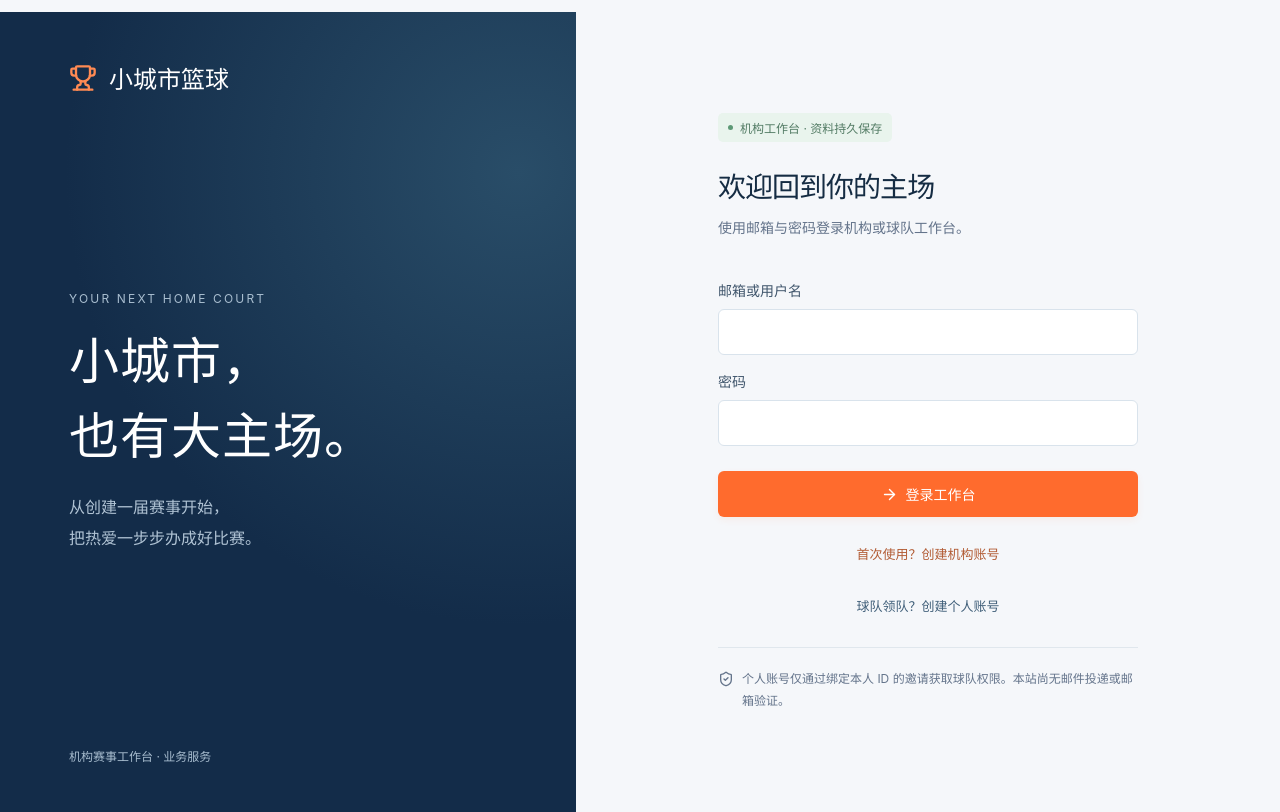
Test case: API模式登录与机构边界 › 登录失败显示错误且不渲染Mock，成功后显示真实机构与资料
The image size is (1280, 812).
Expected: the heading "欢迎回到你的主场" is shown, [718, 170, 934, 204]
Step 1. Type "owner@example.test" into the field labelled "邮箱或用户名" → (928, 332), box [718, 309, 1138, 355]
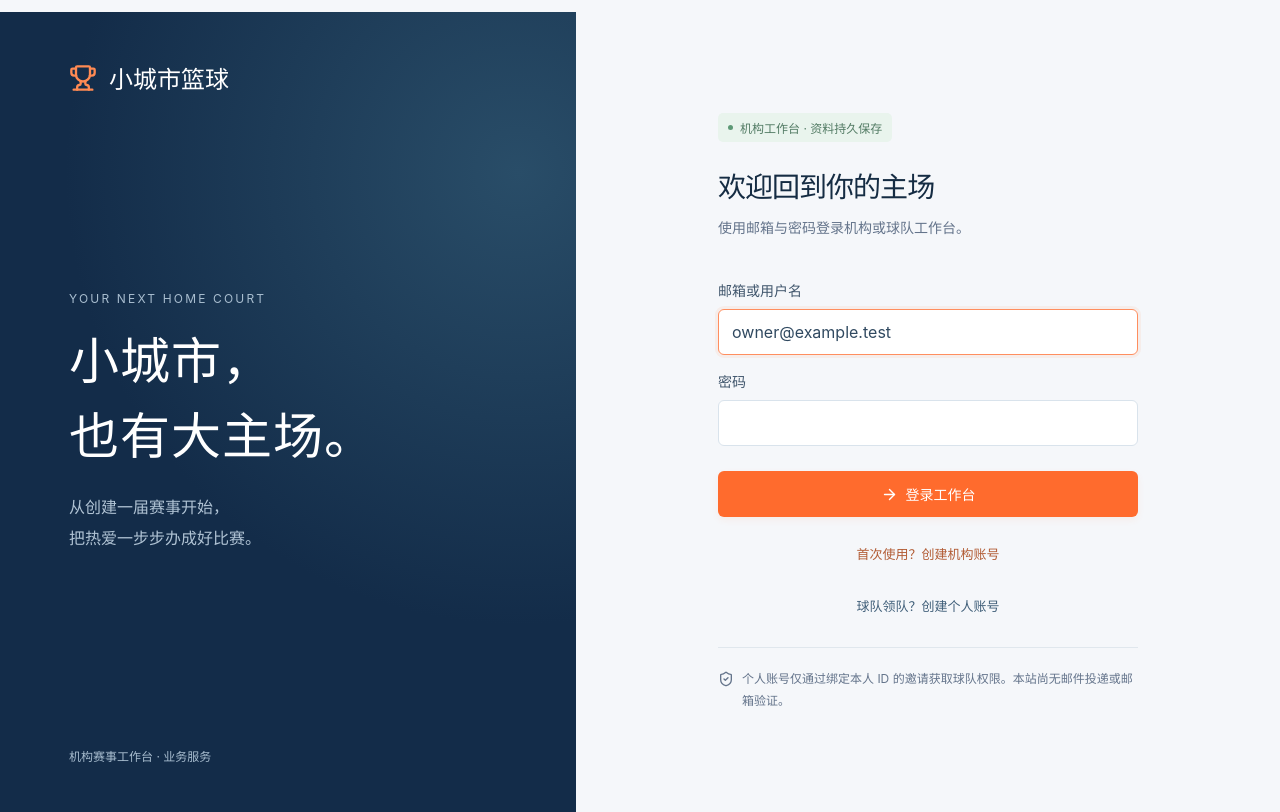
Step 2. Type "wrong-password" into the password field labelled "密码" → (928, 423), box [718, 400, 1138, 446]
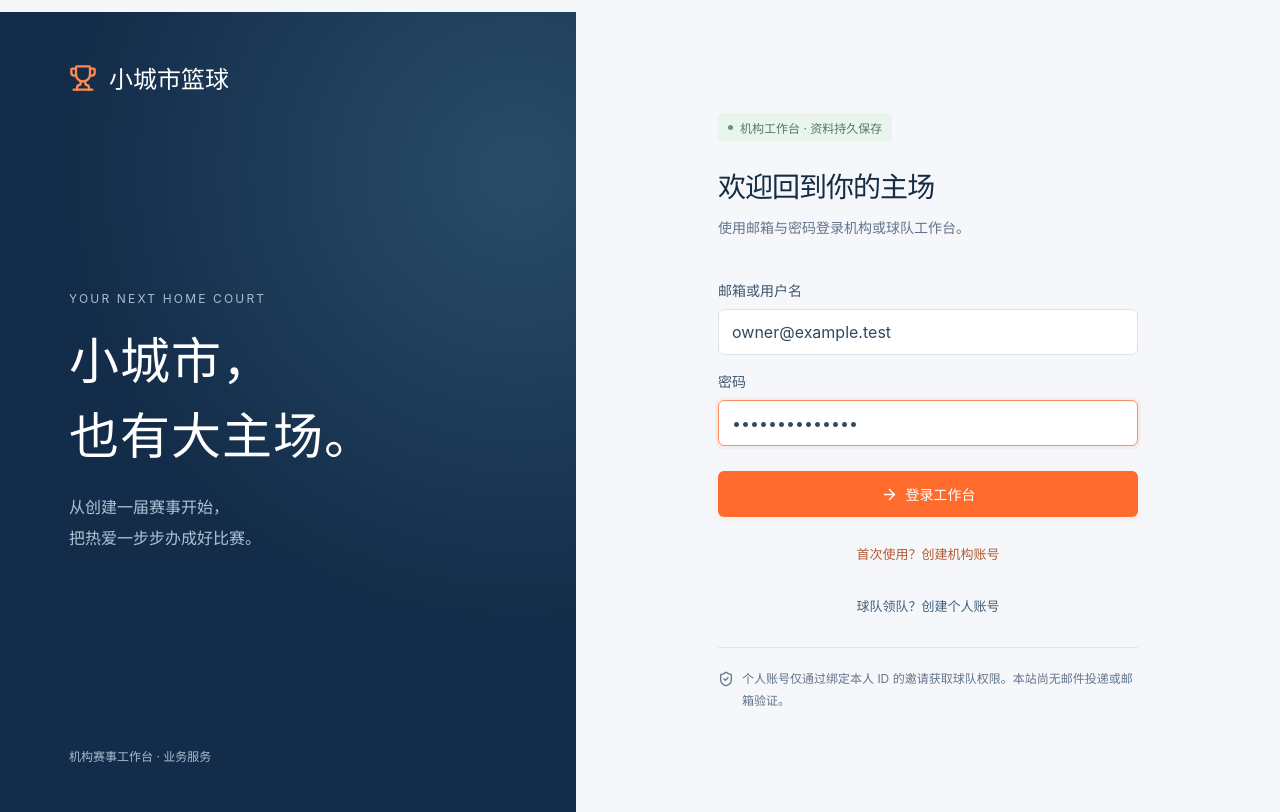
Step 3. Click the button "登录工作台" → click(928, 494), box [718, 471, 1138, 517]
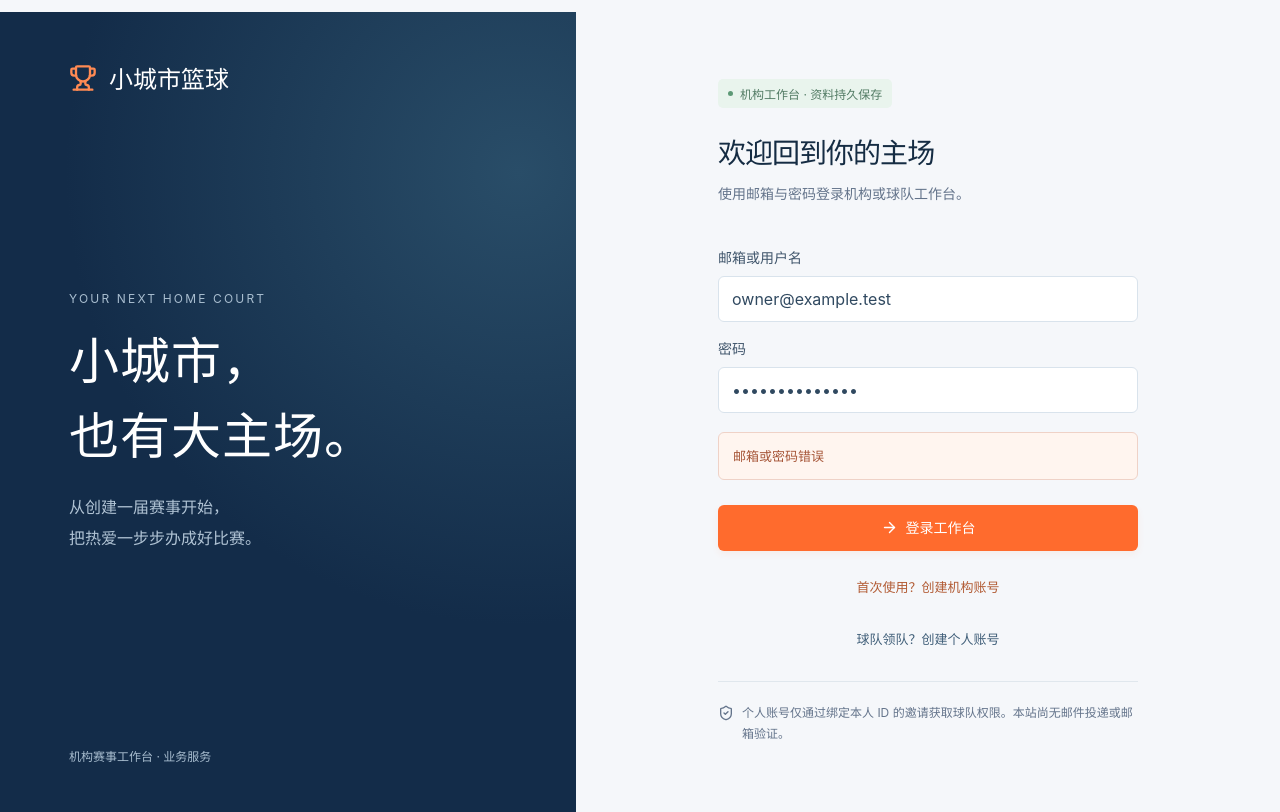
Expected: the message reads "邮箱或密码错误", [733, 448, 824, 464]
Step 4. Type "correct-password" into the password field labelled "密码" → (928, 390), box [718, 367, 1138, 413]
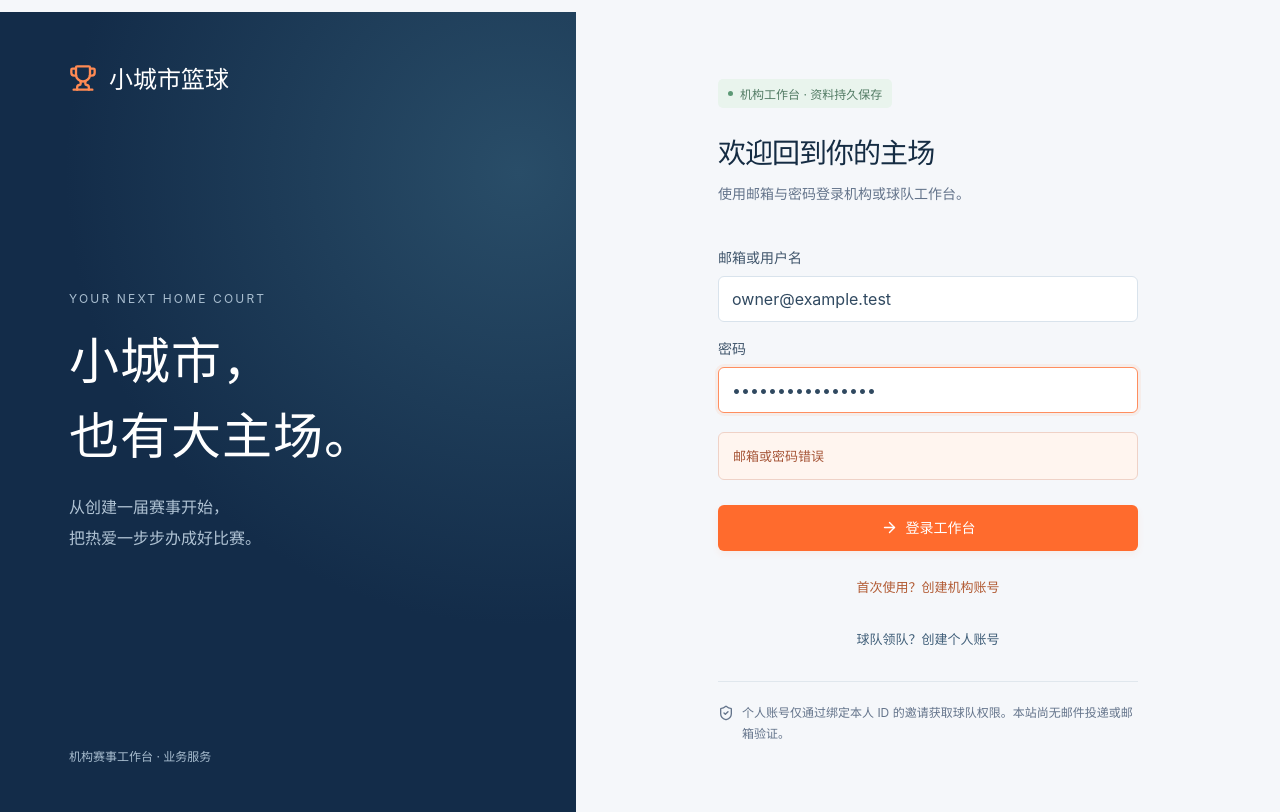
Step 5. Click the button "登录工作台" → click(928, 528), box [718, 505, 1138, 551]
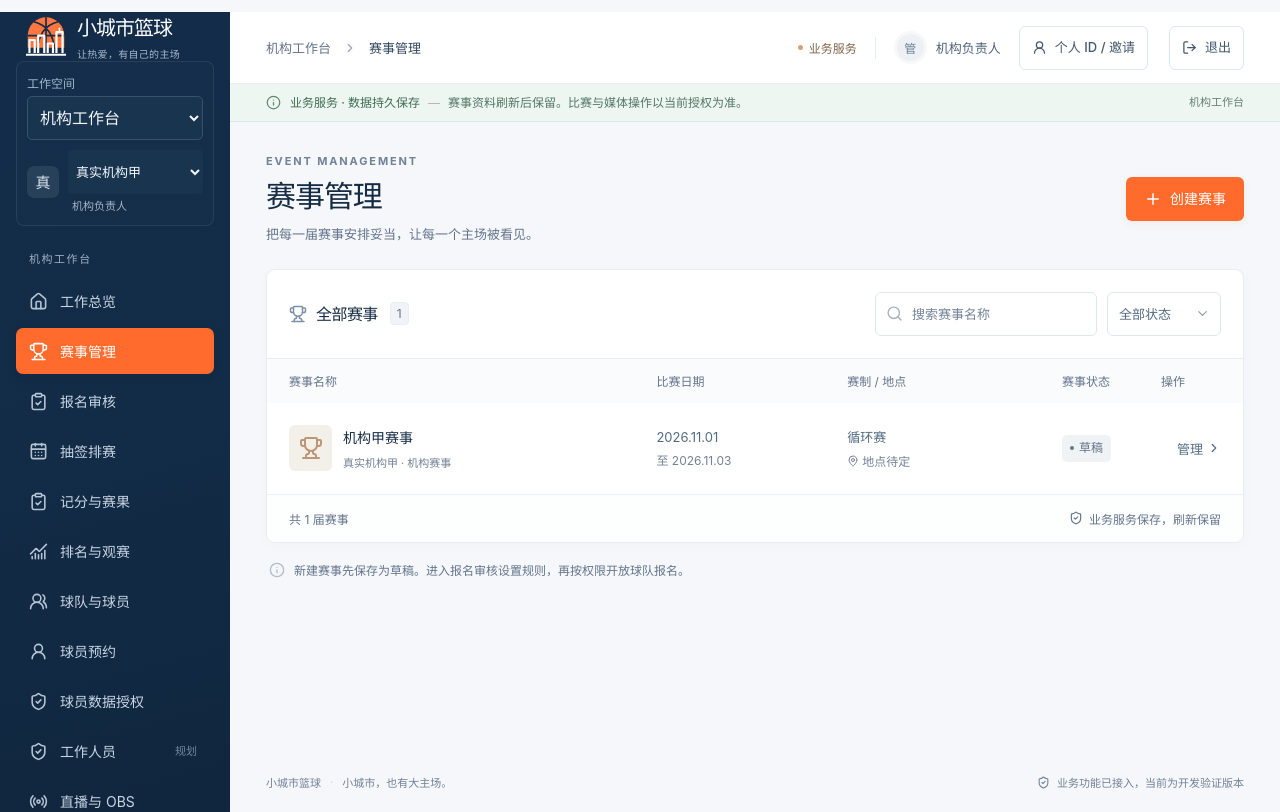
Expected: the link "机构甲赛事" is shown, [343, 429, 413, 446]
Expected: the dropdown named "切换机构" shows "真实机构甲", [68, 150, 203, 194]
Expected: the text "业务服务 · 数据持久保存" is shown, [290, 95, 420, 110]
